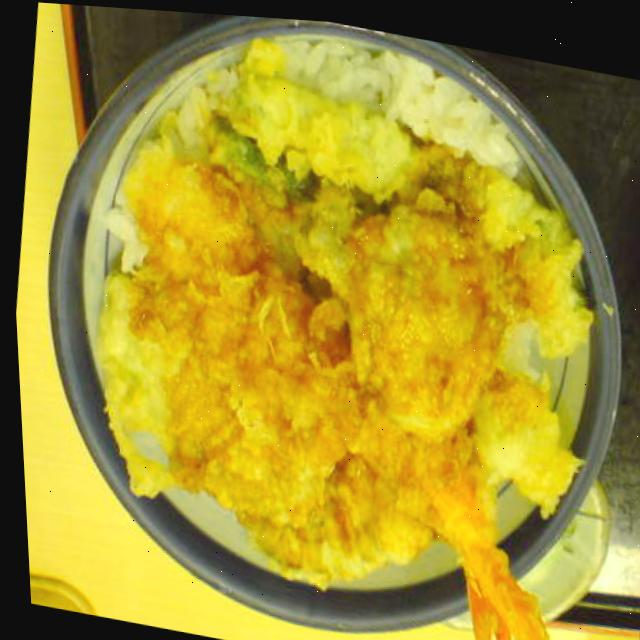熟制海鲜: (4, 0, 640, 640)
